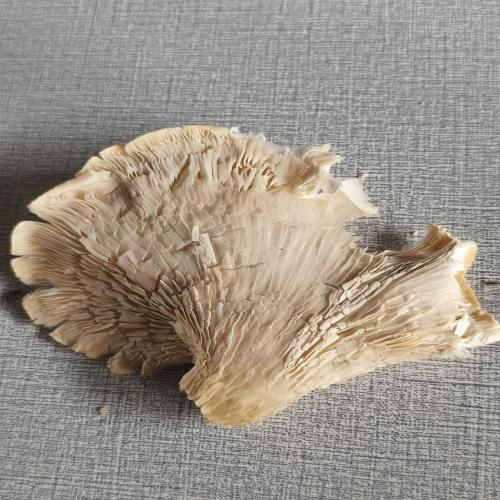Oyster Mushroom: (0, 51, 500, 477)
